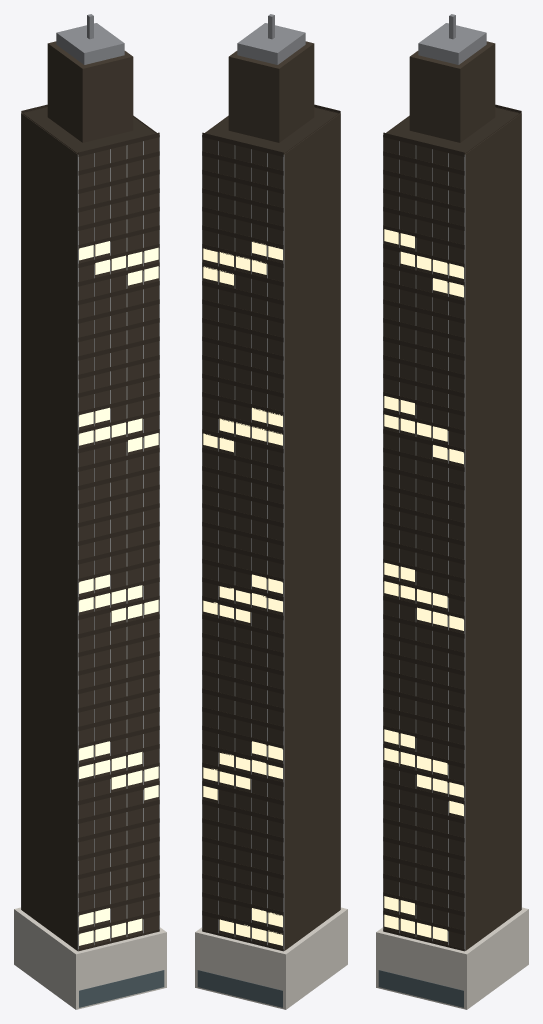
The model's file is tower_res_bronze_46.glb.
The picture shows the model from 3 angles, left to right: view 1: azimuth 30°, elevation 25°; view 2: azimuth 150°, elevation 25°; view 3: azimuth 330°, elevation 25°; orthographic projection.
Visible parts, largest first — view 1: tower_res_bronze_46; view 2: tower_res_bronze_46; view 3: tower_res_bronze_46.
Boxes of the visible parts, bbox=[...] form: tower_res_bronze_46: bbox=[14, 14, 166, 1009]; tower_res_bronze_46: bbox=[195, 14, 347, 1009]; tower_res_bronze_46: bbox=[376, 14, 528, 1009].
Size of the model in its own units: 19 by 192 by 22.54.
